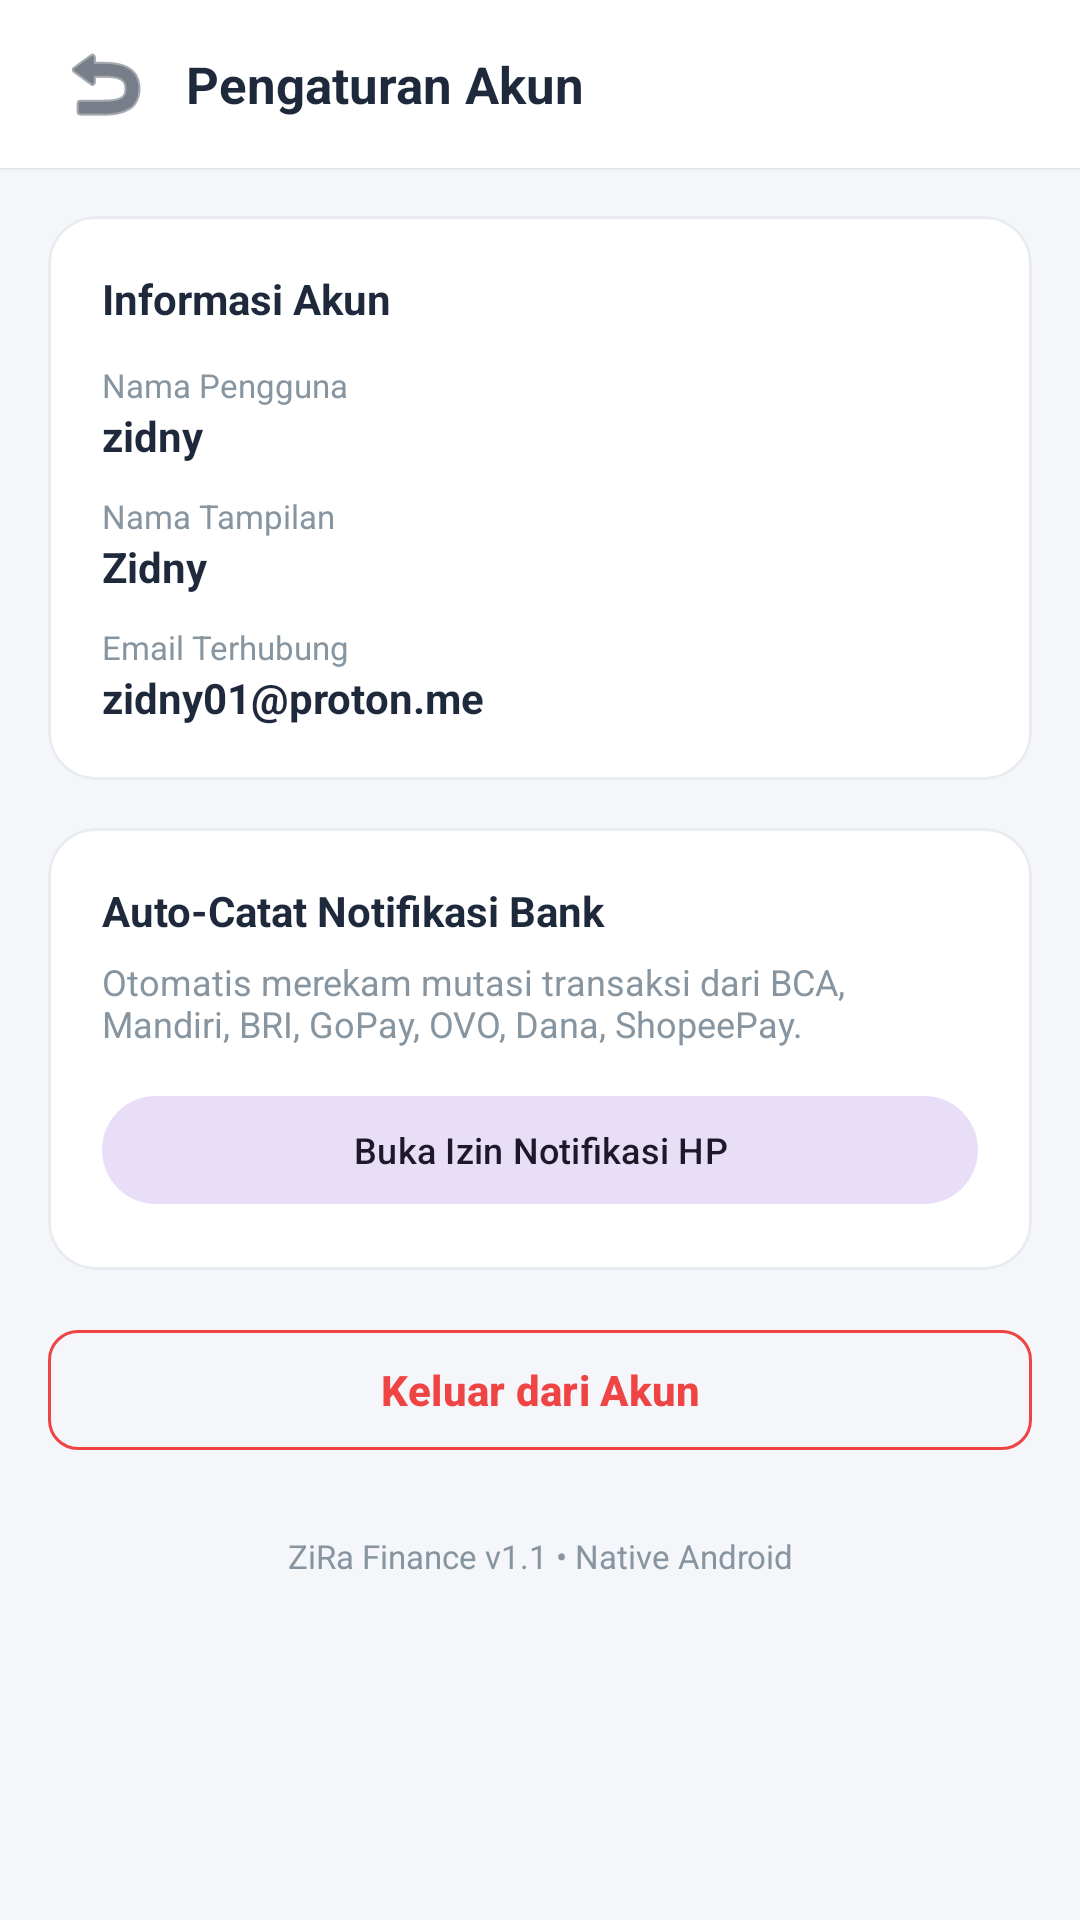

Named icons in this screenshot (1080px x 1920px) and their centers, (x,y):
Kembali: (106,84)
